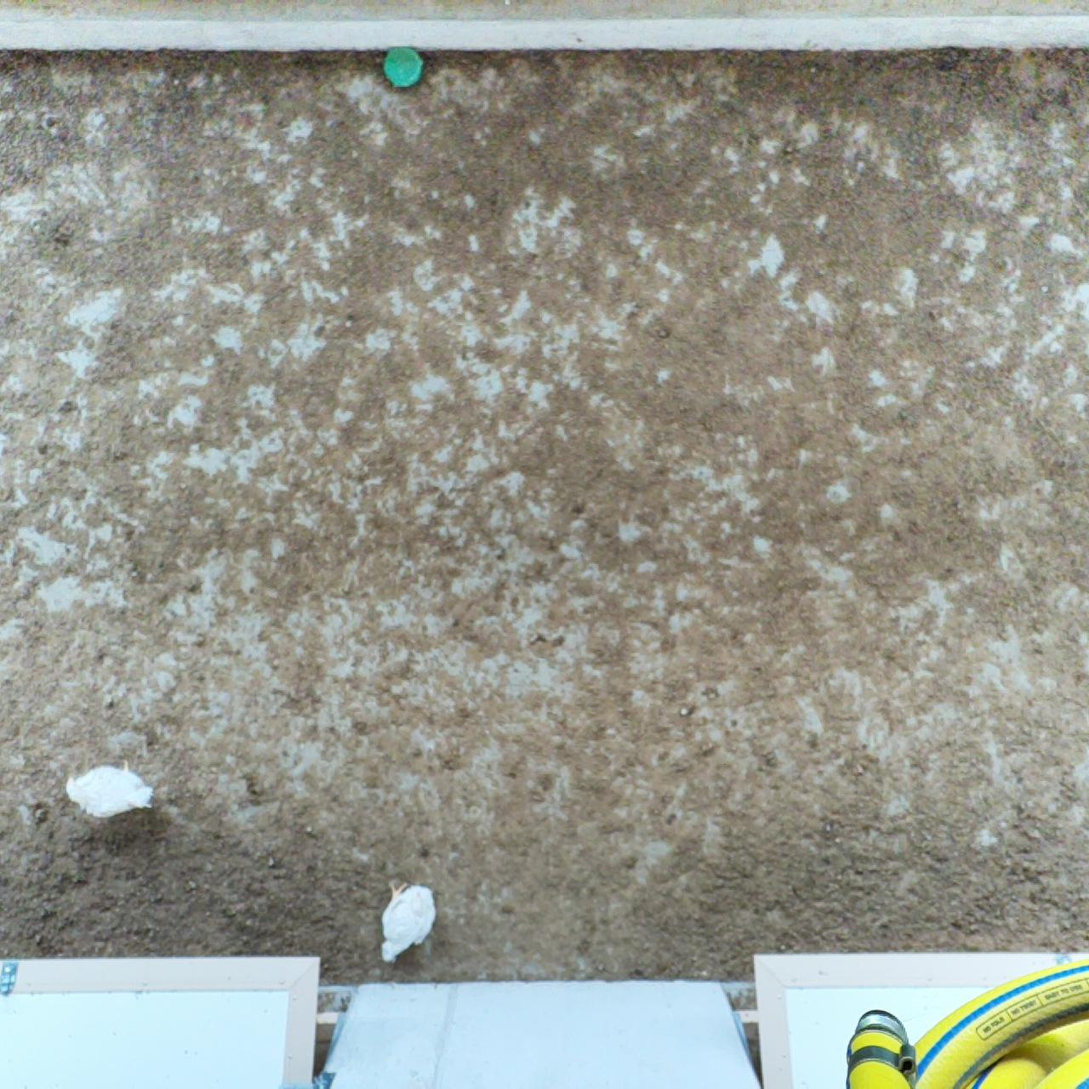chicken: (61, 755, 156, 825), (376, 874, 442, 973)
